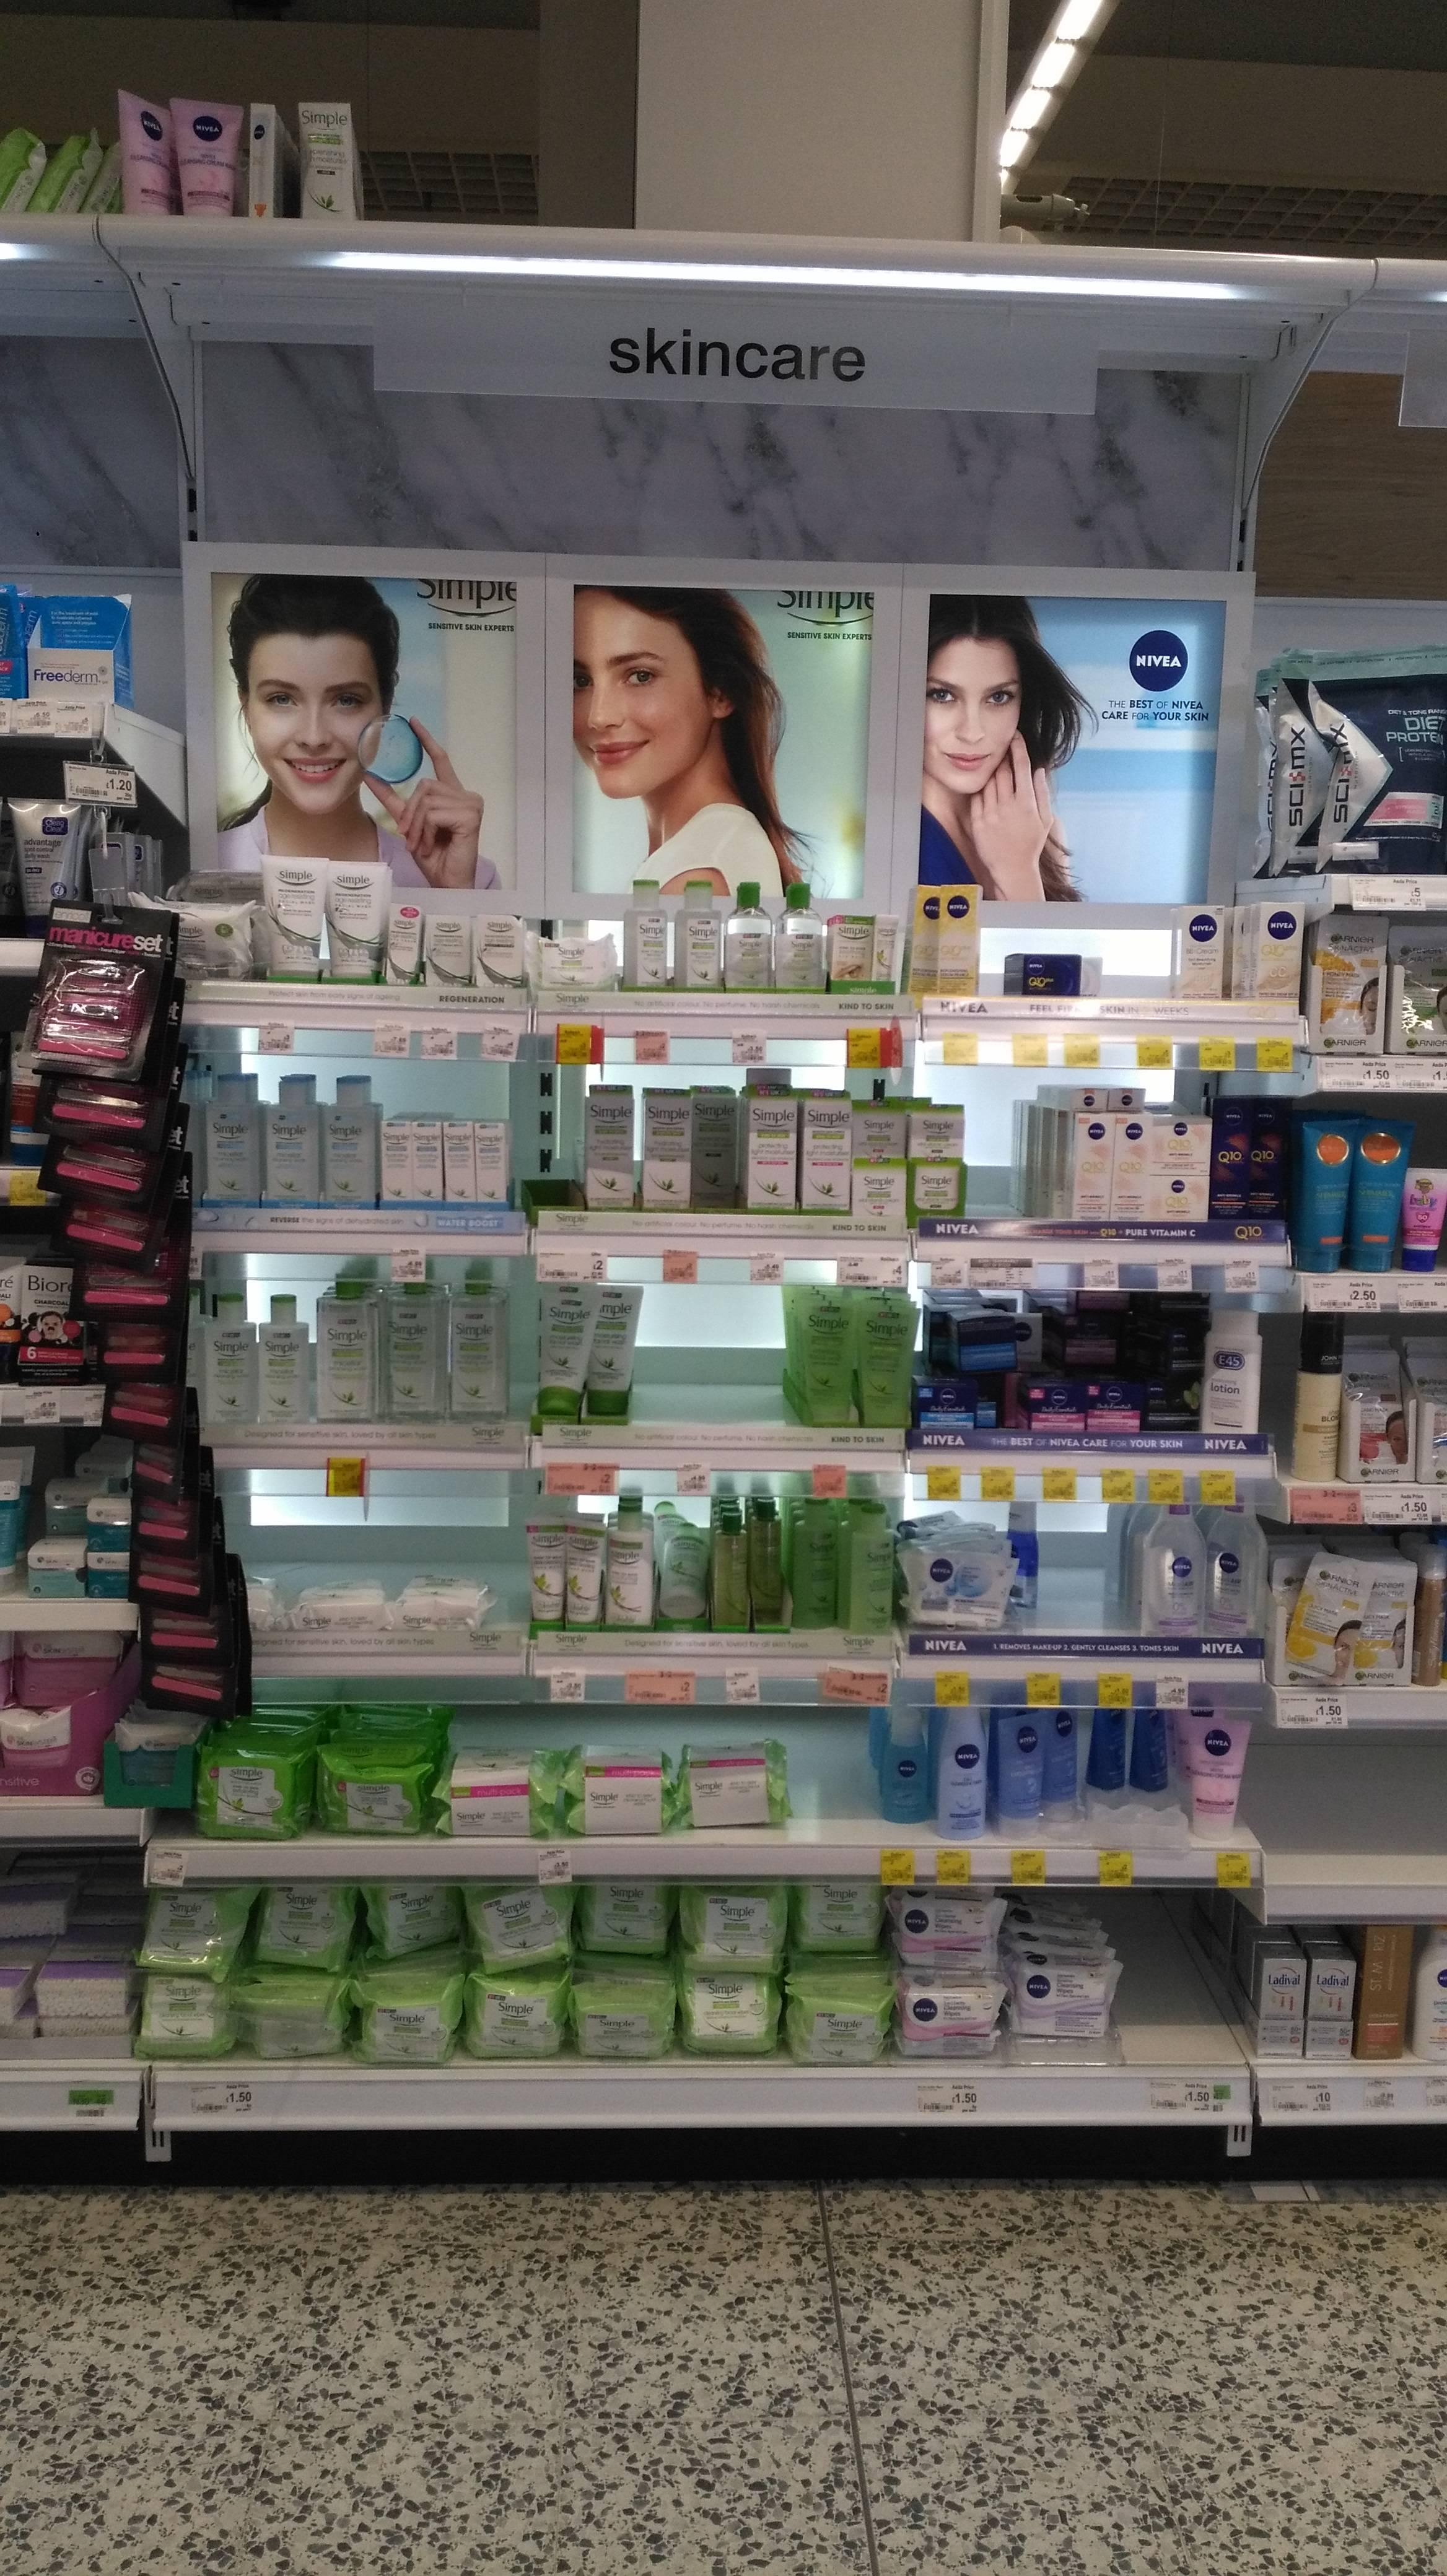empty: (1277, 1729, 1447, 1872), (651, 1290, 784, 1419), (1118, 1904, 1226, 2051), (1047, 1502, 1118, 1640), (524, 1058, 577, 1215), (968, 1074, 1021, 1230), (789, 1714, 863, 1822), (1095, 913, 1173, 998)
misalignment: (998, 1714, 1081, 1838), (920, 881, 980, 996), (658, 1497, 709, 1614)
